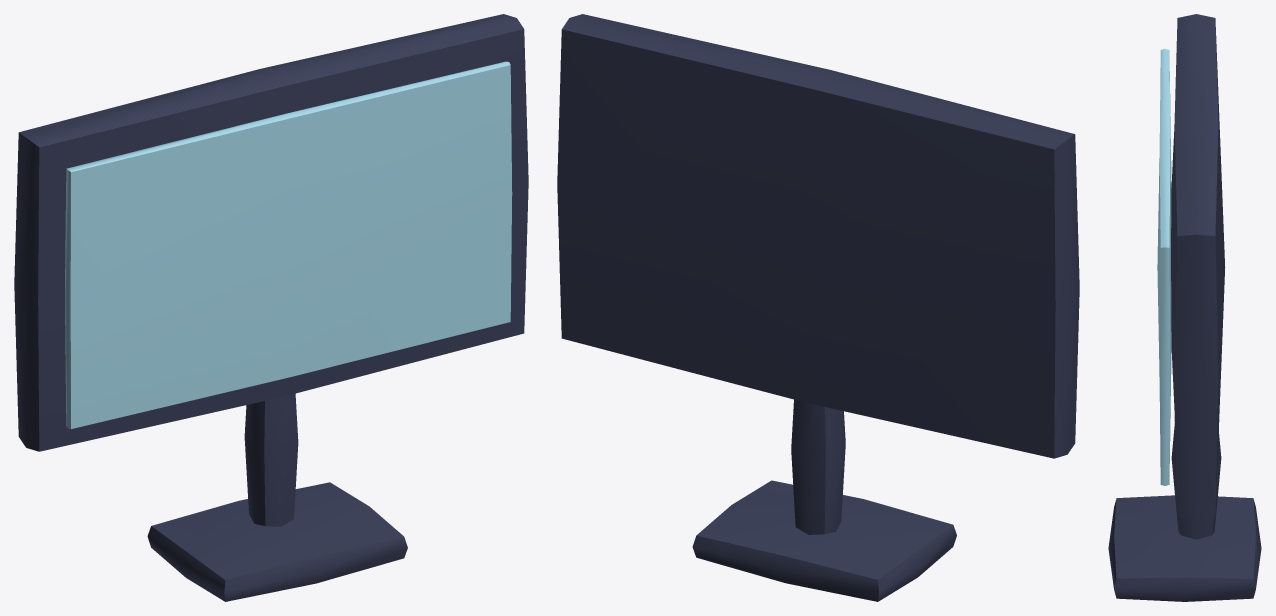
The model's file is monitor-compact.glb.
3 renders of one model, left to right at view 1: azimuth 30°, elevation 25°; view 2: azimuth 150°, elevation 25°; view 3: azimuth 270°, elevation 25°, orthographic. The views are drawn at different scales.
Visible parts, largest first — view 1: screen, part (×3); view 2: part (×3); view 3: part (×3), screen.
Boxes of the visible parts, <box> form: screen: <box>65,61,512,428</box>; part (×3): <box>14,14,528,601</box>; part (×3): <box>557,14,1079,601</box>; part (×3): <box>1108,14,1261,601</box>; screen: <box>1157,49,1171,485</box>.
Bounding box in the file's own units: 0.7 × 0.645 × 0.2.
1 material, 1 textured.
